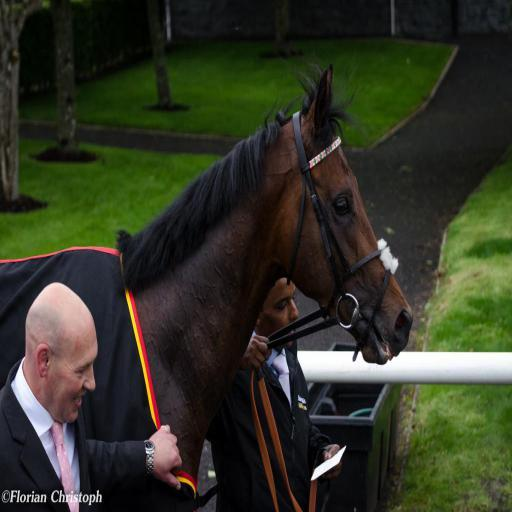Horse: (0, 57, 415, 511)
